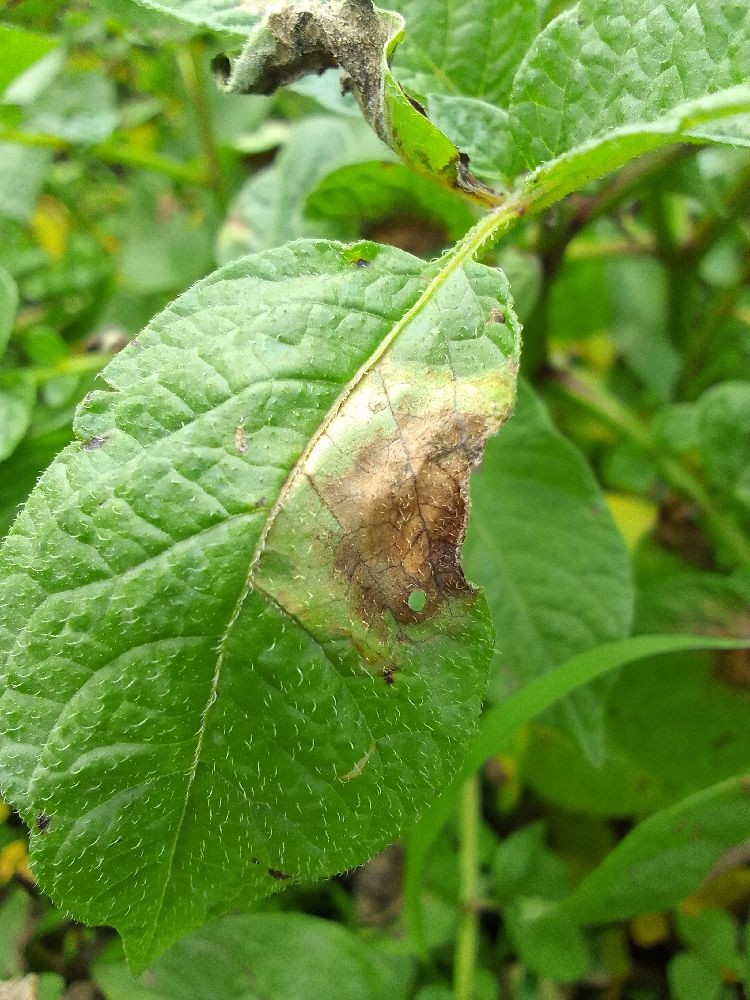late_blight: (288, 399, 502, 658), (0, 827, 129, 1000), (237, 0, 395, 122), (336, 828, 417, 952)
